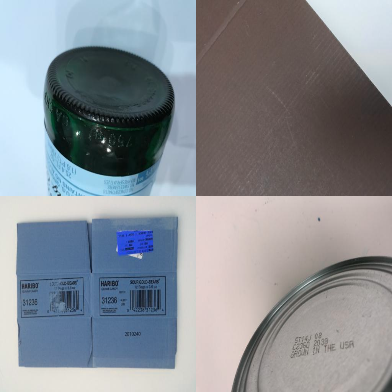cardboard: (196, 1, 392, 194), (15, 215, 177, 371)
glass: (42, 45, 177, 195)
metal: (229, 256, 391, 392)
